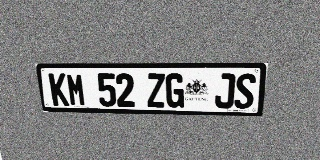2: (115, 73, 135, 107)
5: (97, 73, 117, 107)
G: (166, 73, 184, 108)
J: (214, 73, 236, 109)
K: (48, 73, 69, 106)
M: (66, 73, 86, 106)
S: (234, 73, 256, 109)
Z: (146, 73, 165, 107)
